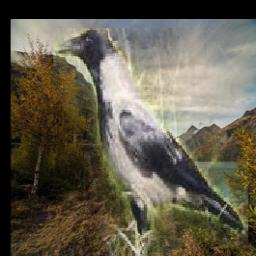Crow: (53, 28, 248, 256)
